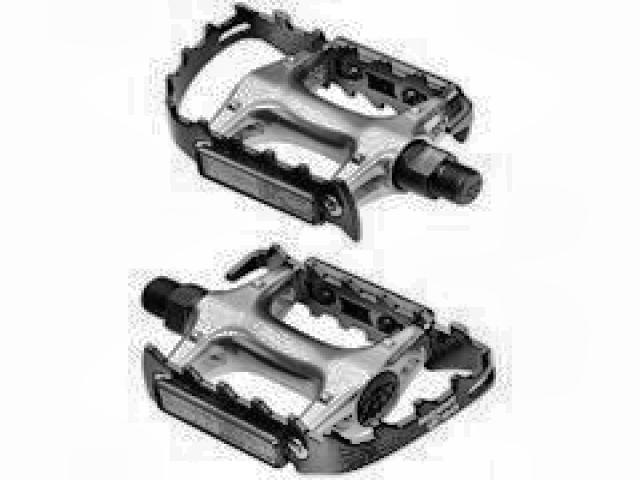pedal: (123, 242, 498, 473), (161, 1, 483, 244)
